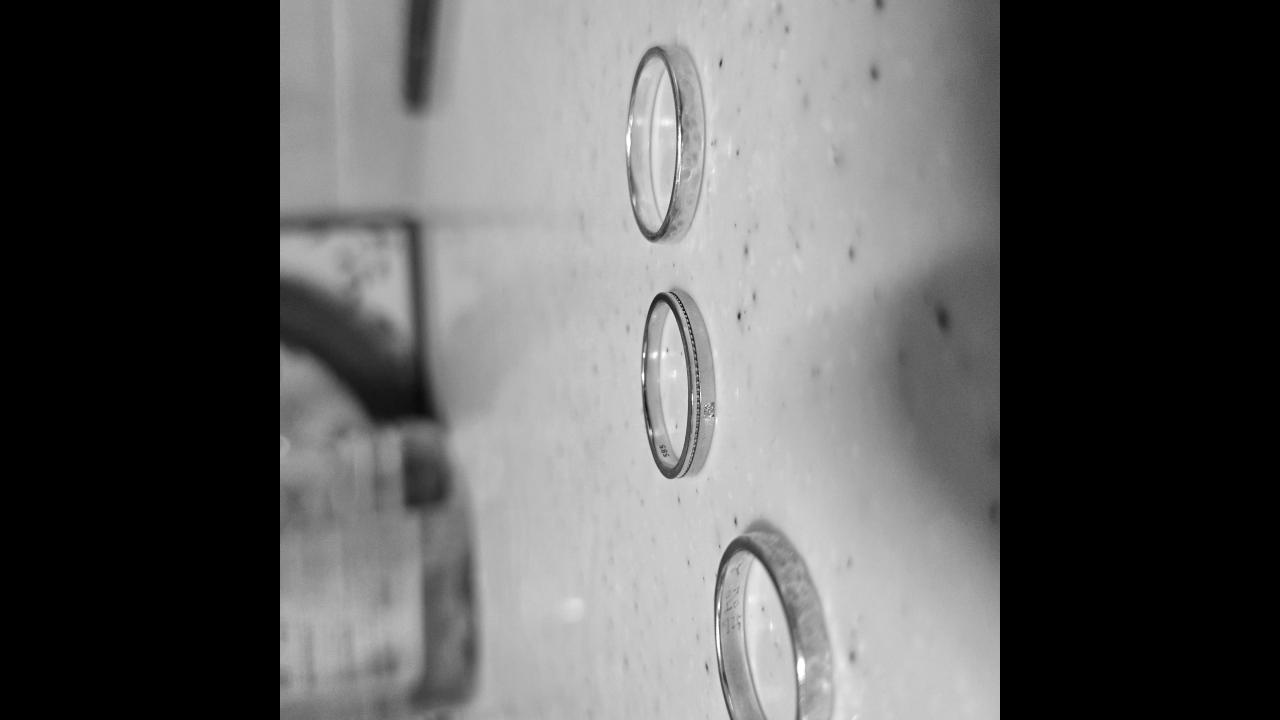ring: (712, 529, 832, 720), (625, 40, 705, 244), (640, 286, 716, 480)
